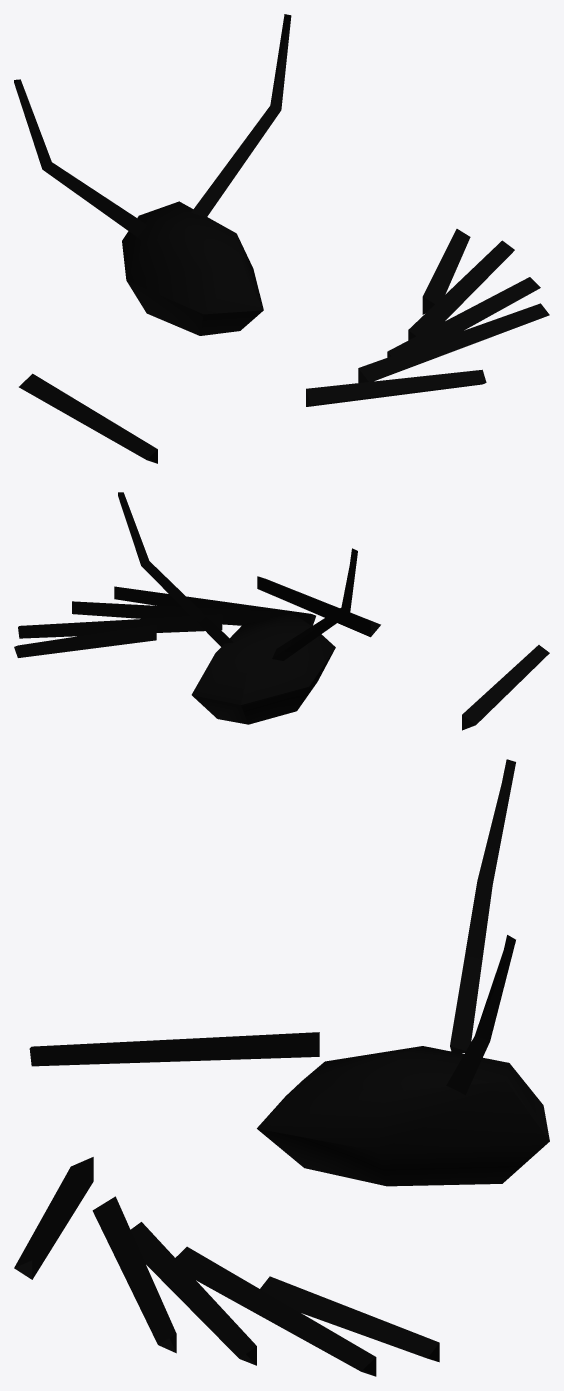
The model's file is SM_bones.fbx.
3 renders of one model, top to bottom at view 1: azimuth 30°, elevation 25°; view 2: azimuth 150°, elevation 25°; view 3: azimuth 270°, elevation 25°, orthographic. The views are drawn at different scales.
Visible parts, largest first — view 1: bones; view 2: bones; view 3: bones.
Boxes of the visible parts, <box> form: bones: <box>14,14,549,463</box>; bones: <box>14,492,549,730</box>; bones: <box>14,759,549,1376</box>.
Bounding box in the file's own units: 0.7586 × 0.3518 × 0.5097.
